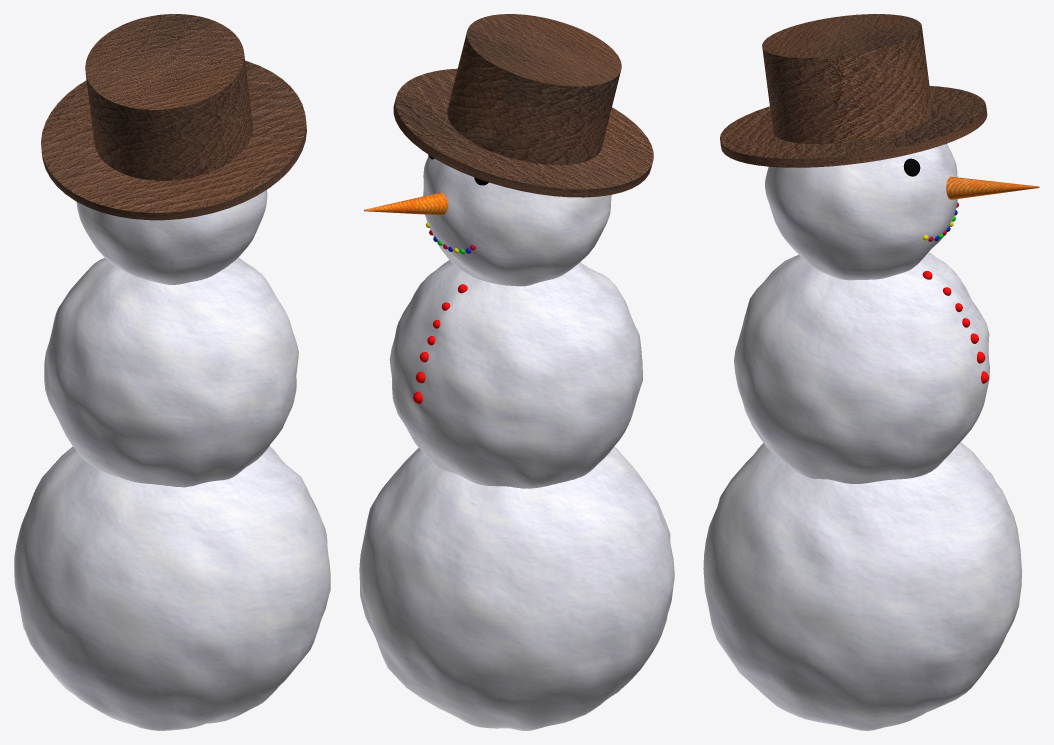
The model's file is Snowman.FBX.
The picture shows the model from 3 angles, left to right: view 1: azimuth 30°, elevation 25°; view 2: azimuth 150°, elevation 25°; view 3: azimuth 270°, elevation 25°; orthographic projection.
Parts seen in each view (by area): view 1: Sphere001, Sphere002, Cylinder002, Sphere003; view 2: Sphere001, Sphere002, Cylinder002, Sphere003, Cone001; view 3: Sphere001, Sphere002, Cylinder002, Sphere003, Cone001.
Part boxes in pixels (x1=…): Sphere001: x1=14, y1=446, x2=330, y2=730; Sphere002: x1=44, y1=257, x2=298, y2=487; Cylinder002: x1=41, y1=14, x2=306, y2=220; Sphere003: x1=76, y1=190, x2=267, y2=284; Sphere001: x1=359, y1=446, x2=674, y2=730; Sphere002: x1=389, y1=260, x2=642, y2=488; Cylinder002: x1=393, y1=14, x2=653, y2=197; Sphere003: x1=423, y1=156, x2=611, y2=286; Cone001: x1=364, y1=192, x2=447, y2=215; Sphere001: x1=703, y1=442, x2=1021, y2=730; Sphere002: x1=734, y1=252, x2=989, y2=483; Cylinder002: x1=720, y1=14, x2=987, y2=167; Sphere003: x1=765, y1=144, x2=957, y2=280; Cone001: x1=946, y1=176, x2=1039, y2=199.
Size of the model in its own units: 50 by 119 by 52.74.
9 materials, 3 textured.
